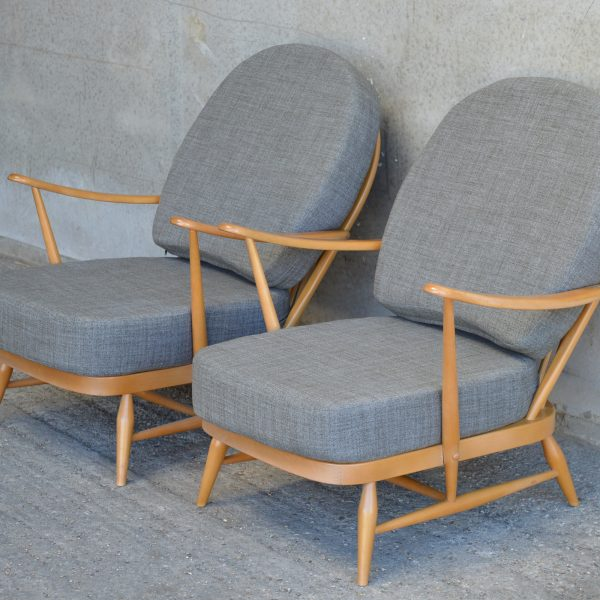chairs: (191, 78, 600, 585), (1, 40, 385, 486)
